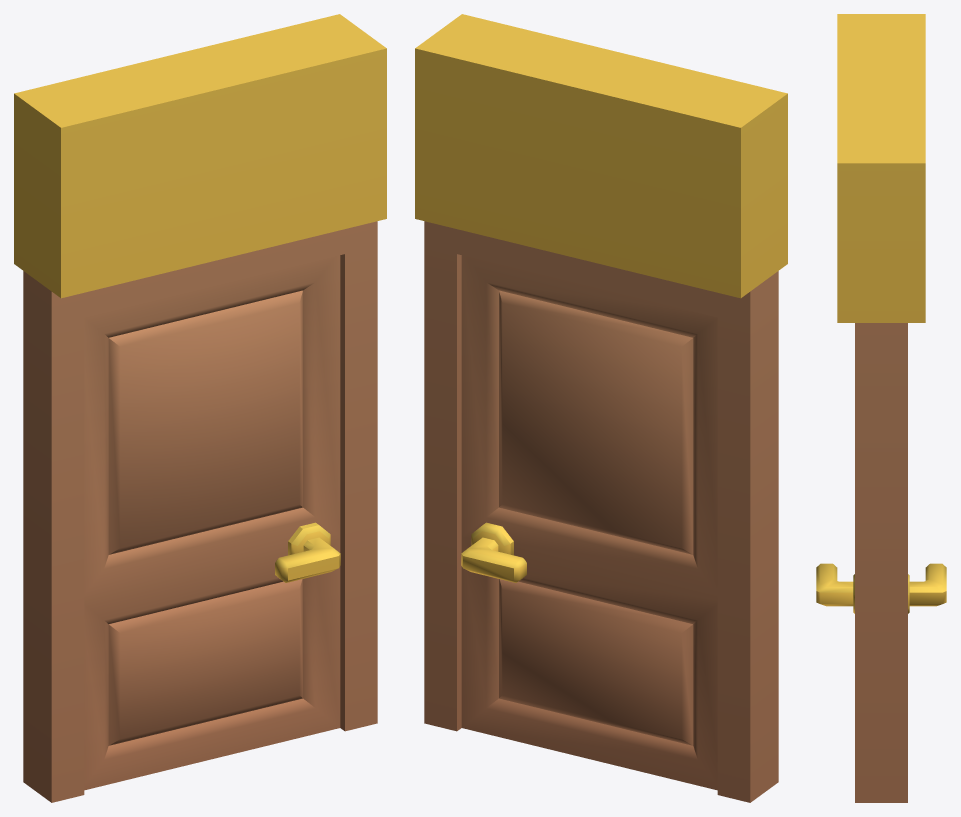
The model's file is wall_tiled_doorway.fbx.
The picture shows the model from 3 angles, left to right: view 1: azimuth 30°, elevation 25°; view 2: azimuth 150°, elevation 25°; view 3: azimuth 270°, elevation 25°; orthographic projection. The views are drawn at different scales.
Visible parts, largest first — view 1: wall_tiled_doorway, wall_tiled_door; view 2: wall_tiled_doorway, wall_tiled_door; view 3: wall_tiled_doorway, wall_tiled_door.
Boxes of the visible parts, bbox=[...] form: wall_tiled_doorway: bbox=[14, 14, 386, 802]; wall_tiled_door: bbox=[84, 255, 340, 790]; wall_tiled_doorway: bbox=[415, 14, 787, 802]; wall_tiled_door: bbox=[461, 255, 717, 790]; wall_tiled_doorway: bbox=[837, 14, 925, 802]; wall_tiled_door: bbox=[816, 563, 946, 613].
Bounding box in the file's own units: 2 × 4 × 0.74.
